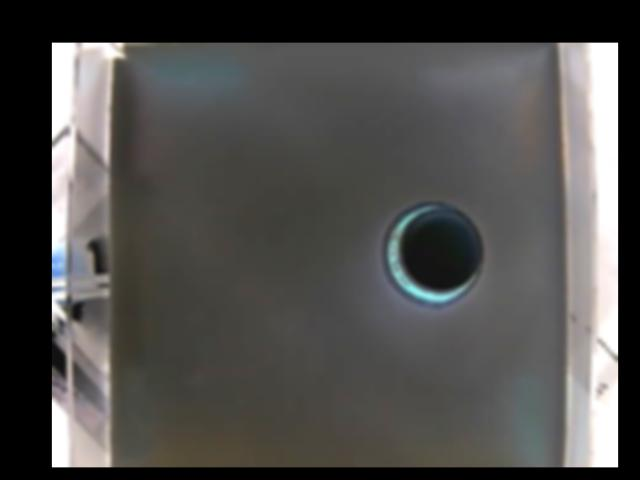Cup: (379, 202, 488, 307)
